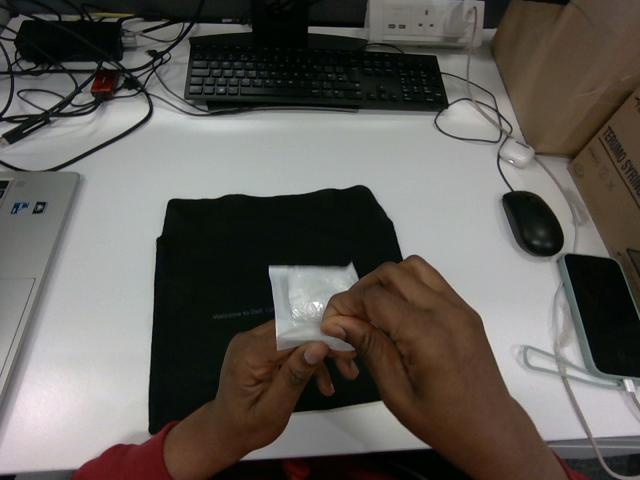gauze: (269, 264, 357, 350)
